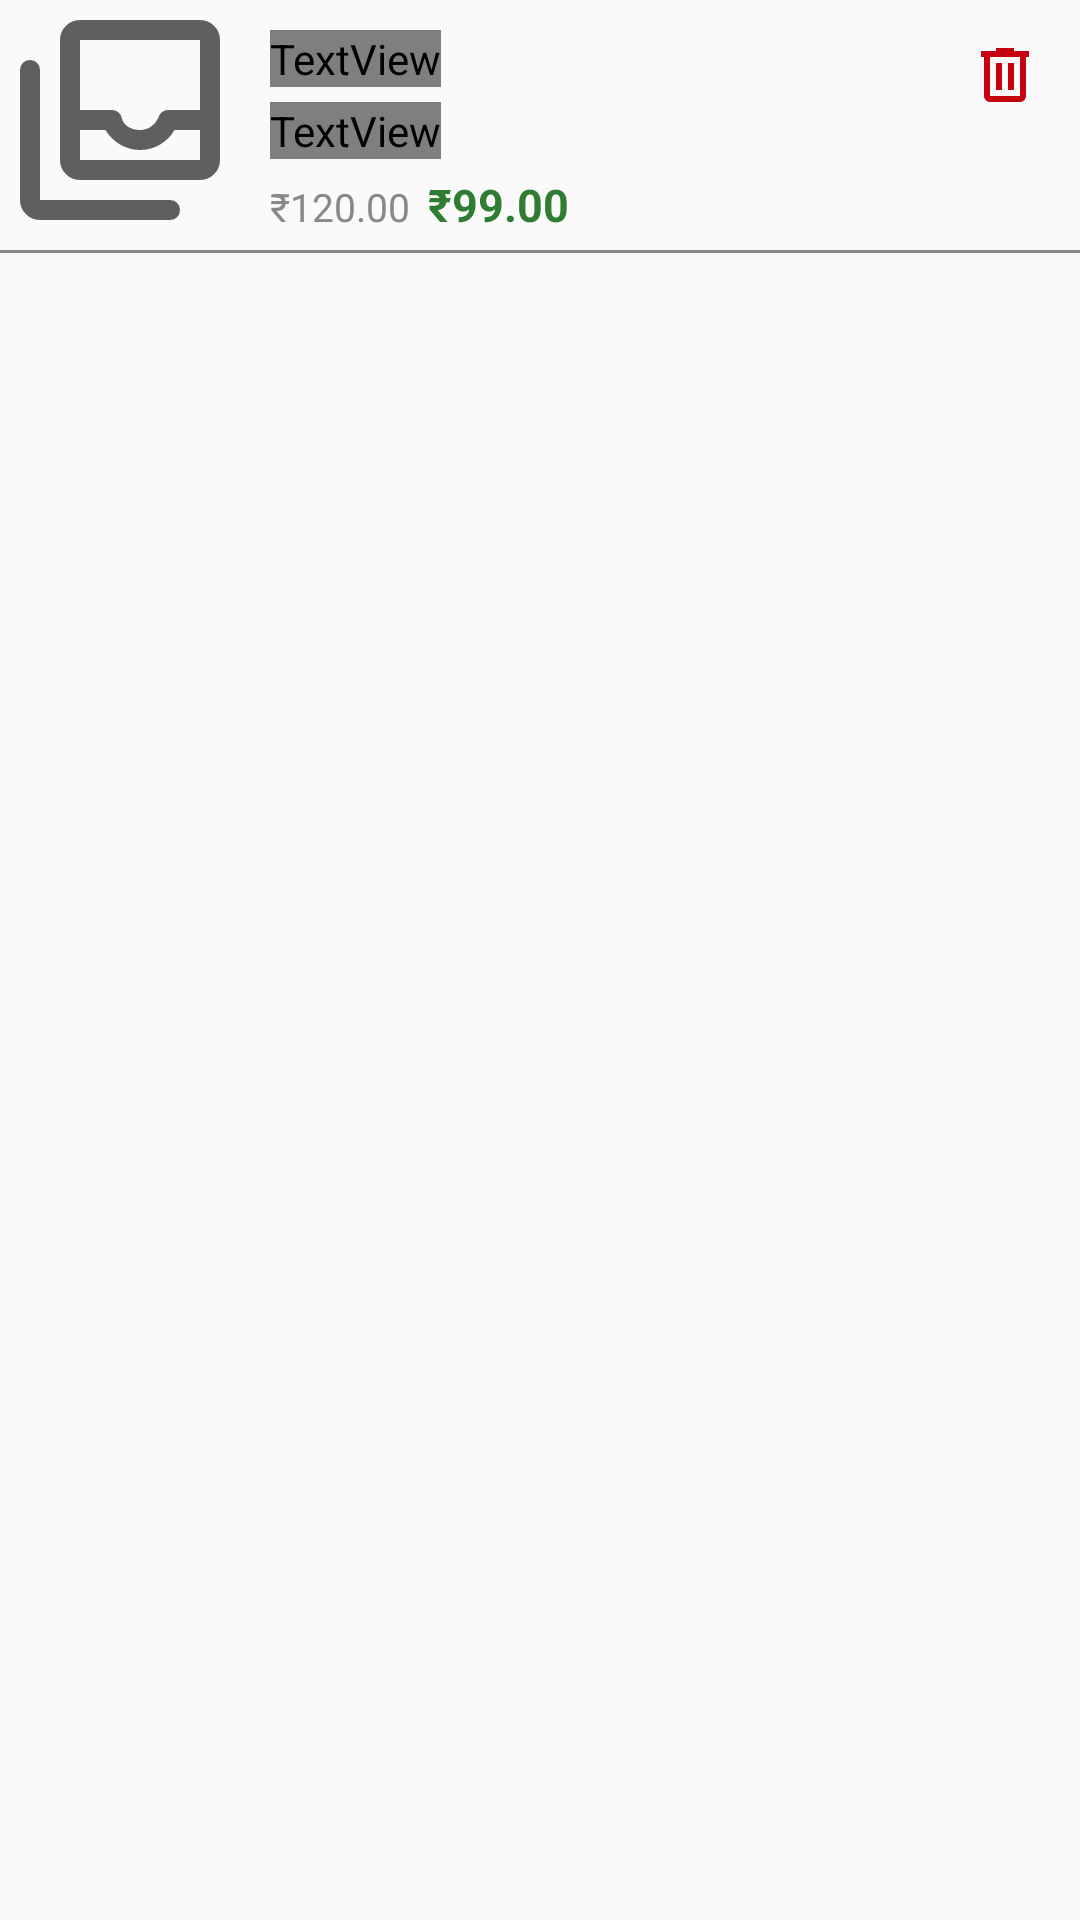

Named icons in this screenshot (1080*1920) and their centers, [x,y]:
remove: [1005,75]
